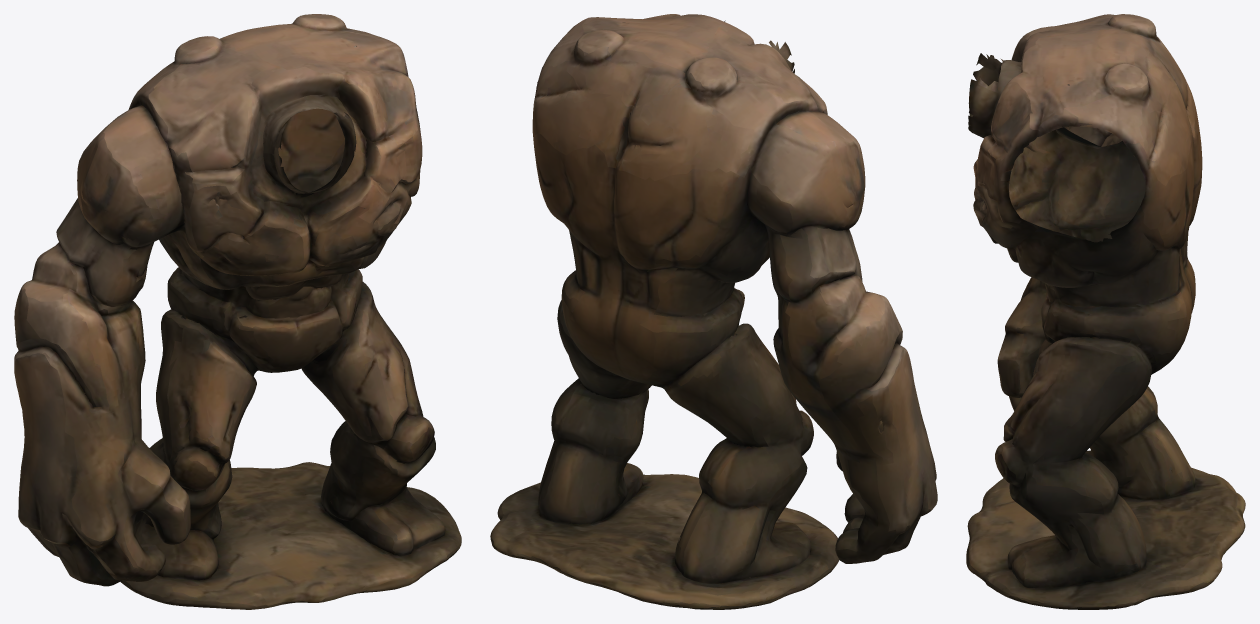
File: colossus_slam_base.glb
The picture shows the model from 3 angles, left to right: view 1: azimuth 30°, elevation 25°; view 2: azimuth 150°, elevation 25°; view 3: azimuth 270°, elevation 25°; orthographic projection. The views are drawn at different scales.
Visible parts, largest first — view 1: world; view 2: world; view 3: world.
Boxes of the visible parts, x1,y1,x2,y2 form: world: (14,14,461,609); world: (490,14,937,609); world: (966,14,1245,609).
Bounding box in the file's own units: 0.2081 × 0.2485 × 0.1271.
Materials: 1 (1 with a texture image).
